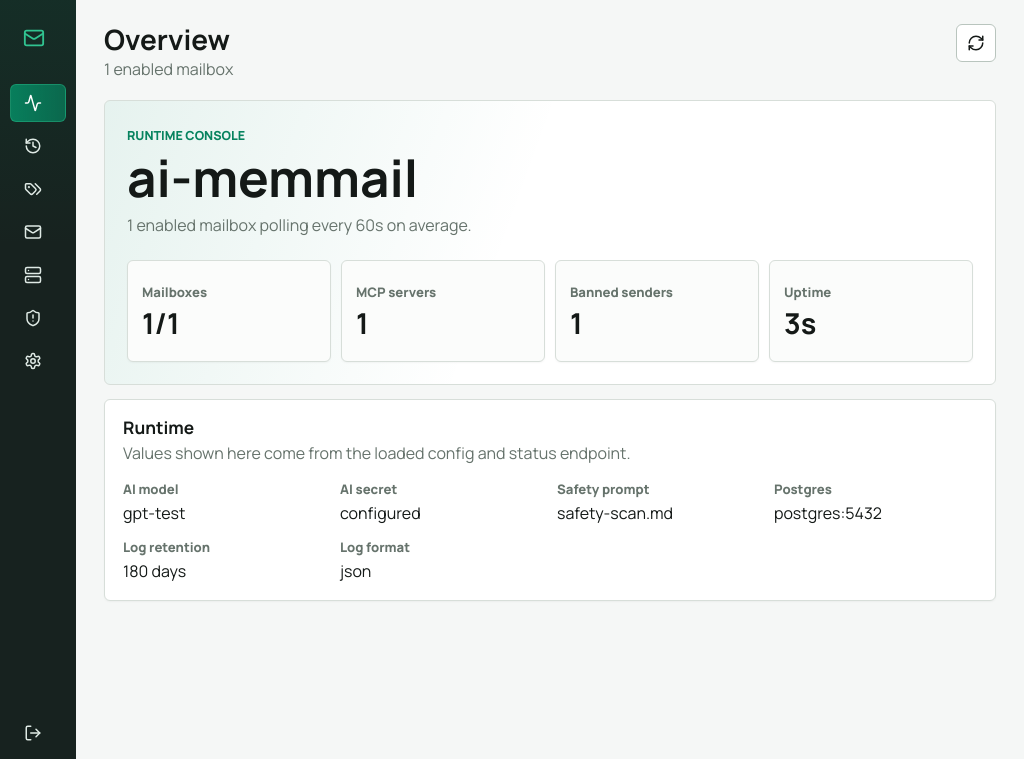
App safety and tabs › renders MCP and settings tabs
Click the button "MCP Servers" at (38, 275), box [10,256,66,294]
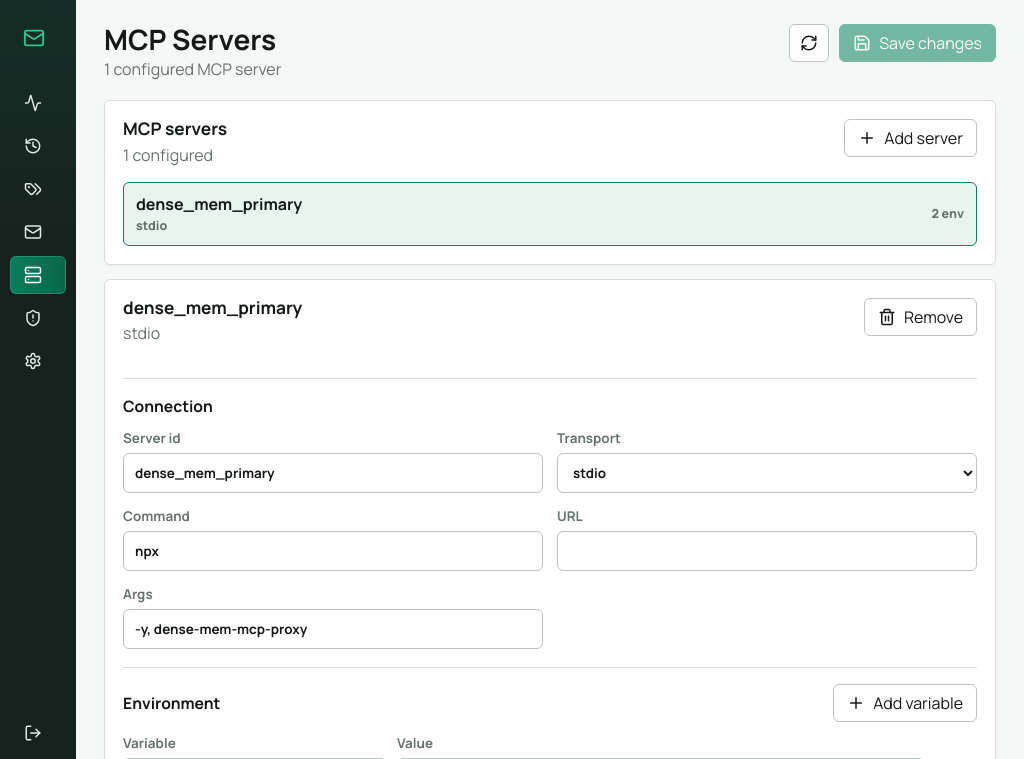
expect the heading "dense_mem_primary" is shown: met, box [123,298,302,318]
Click the button "Settings" at (38, 361), box [10,342,66,380]
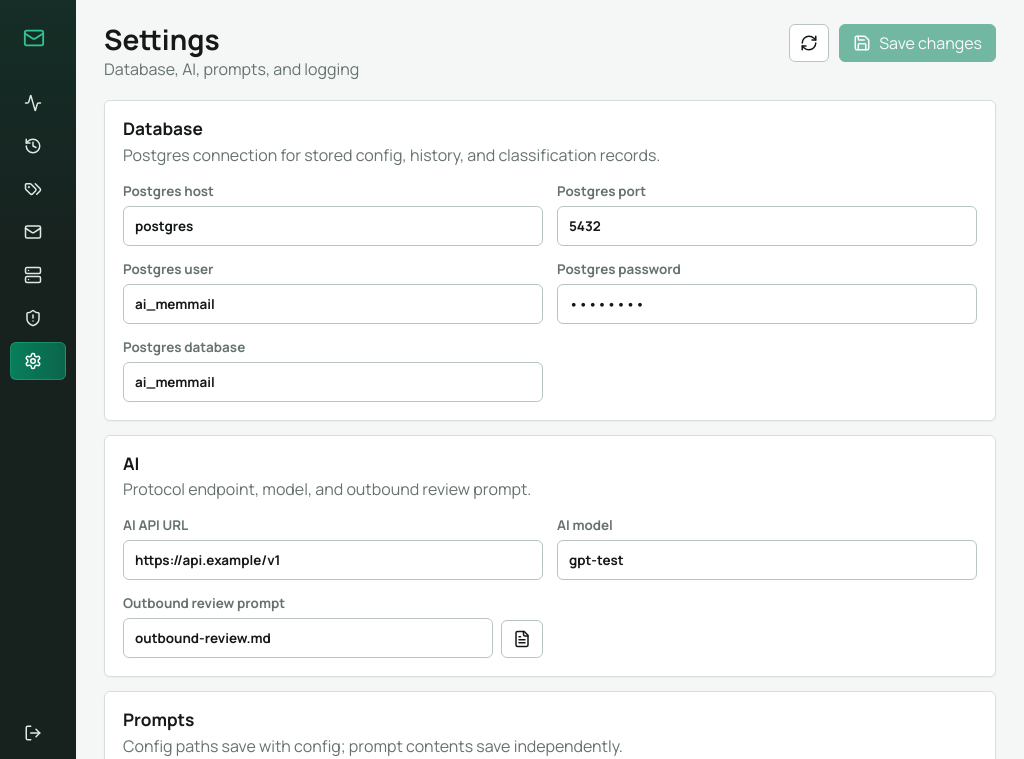
expect the field labelled "AI model" holds "gpt-test": met, box [557,540,977,580]
expect the field labelled "Postgres host" holds "postgres": met, box [123,206,543,246]
